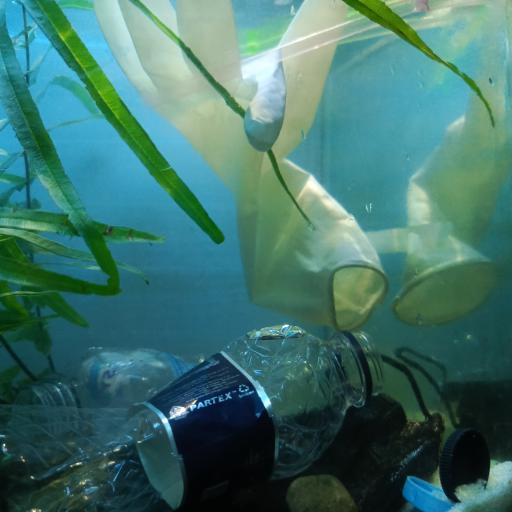bottle_cap: (442, 426, 492, 498), (402, 470, 452, 512)
glove: (92, 0, 386, 335)
mask: (287, 349, 446, 512)
plastic_bottle: (1, 321, 388, 512), (15, 346, 202, 413)
plastic_straw: (136, 0, 465, 108)
